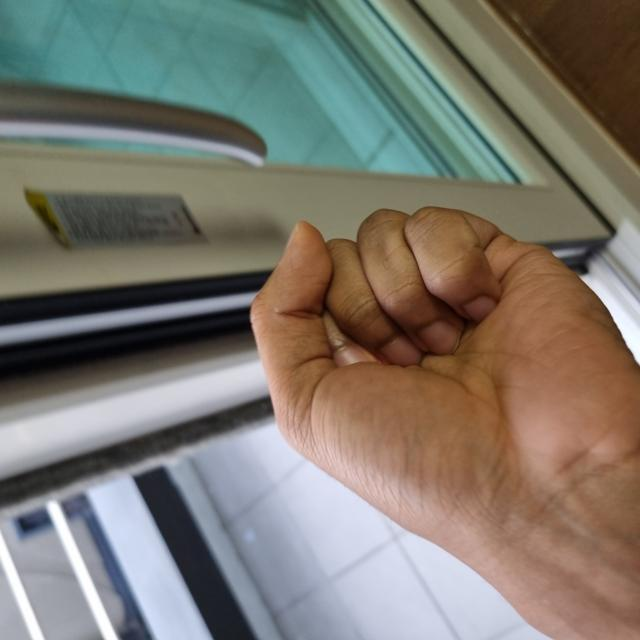Rock: (0, 249, 430, 639)
